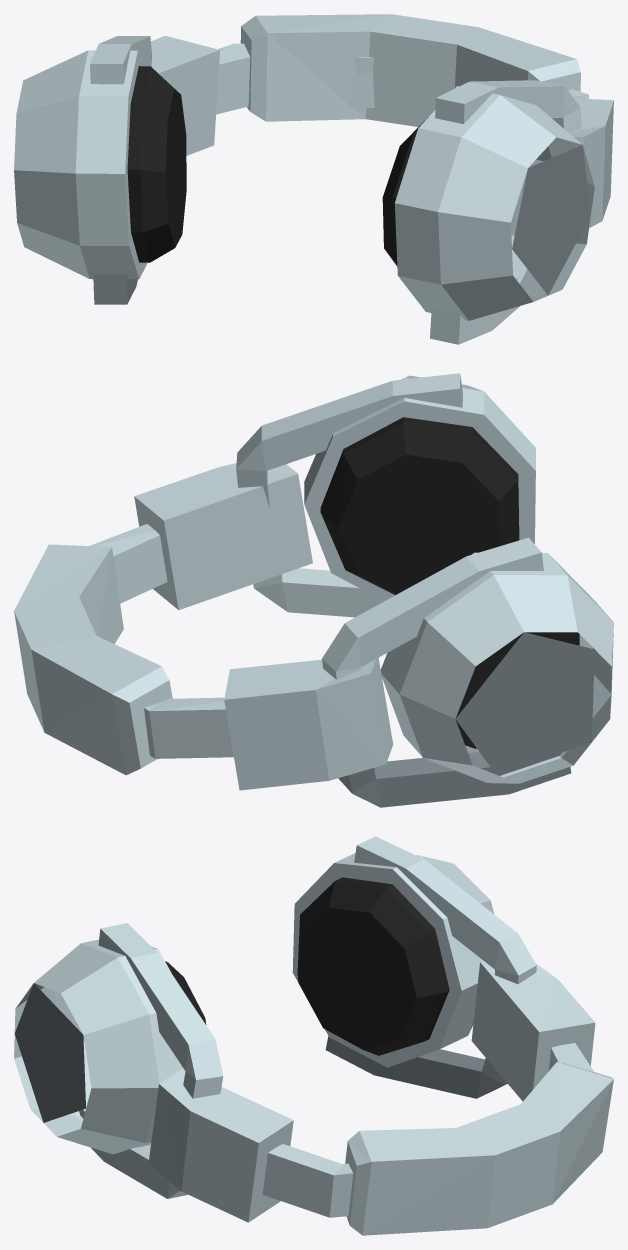
The model's file is head_phones.glb.
The picture shows the model from 3 angles, top to bottom: view 1: azimuth 30°, elevation 25°; view 2: azimuth 150°, elevation 25°; view 3: azimuth 270°, elevation 25°; orthographic projection. The views are drawn at different scales.
Visible parts, largest first — view 1: head_phones; view 2: head_phones; view 3: head_phones.
Boxes of the visible parts, box(x1,y1,x2,y2) form: head_phones: box(14, 14, 613, 344); head_phones: box(14, 373, 613, 807); head_phones: box(14, 836, 613, 1235).
Size of the model in its own units: 0.2906 by 0.1235 by 0.2903.
